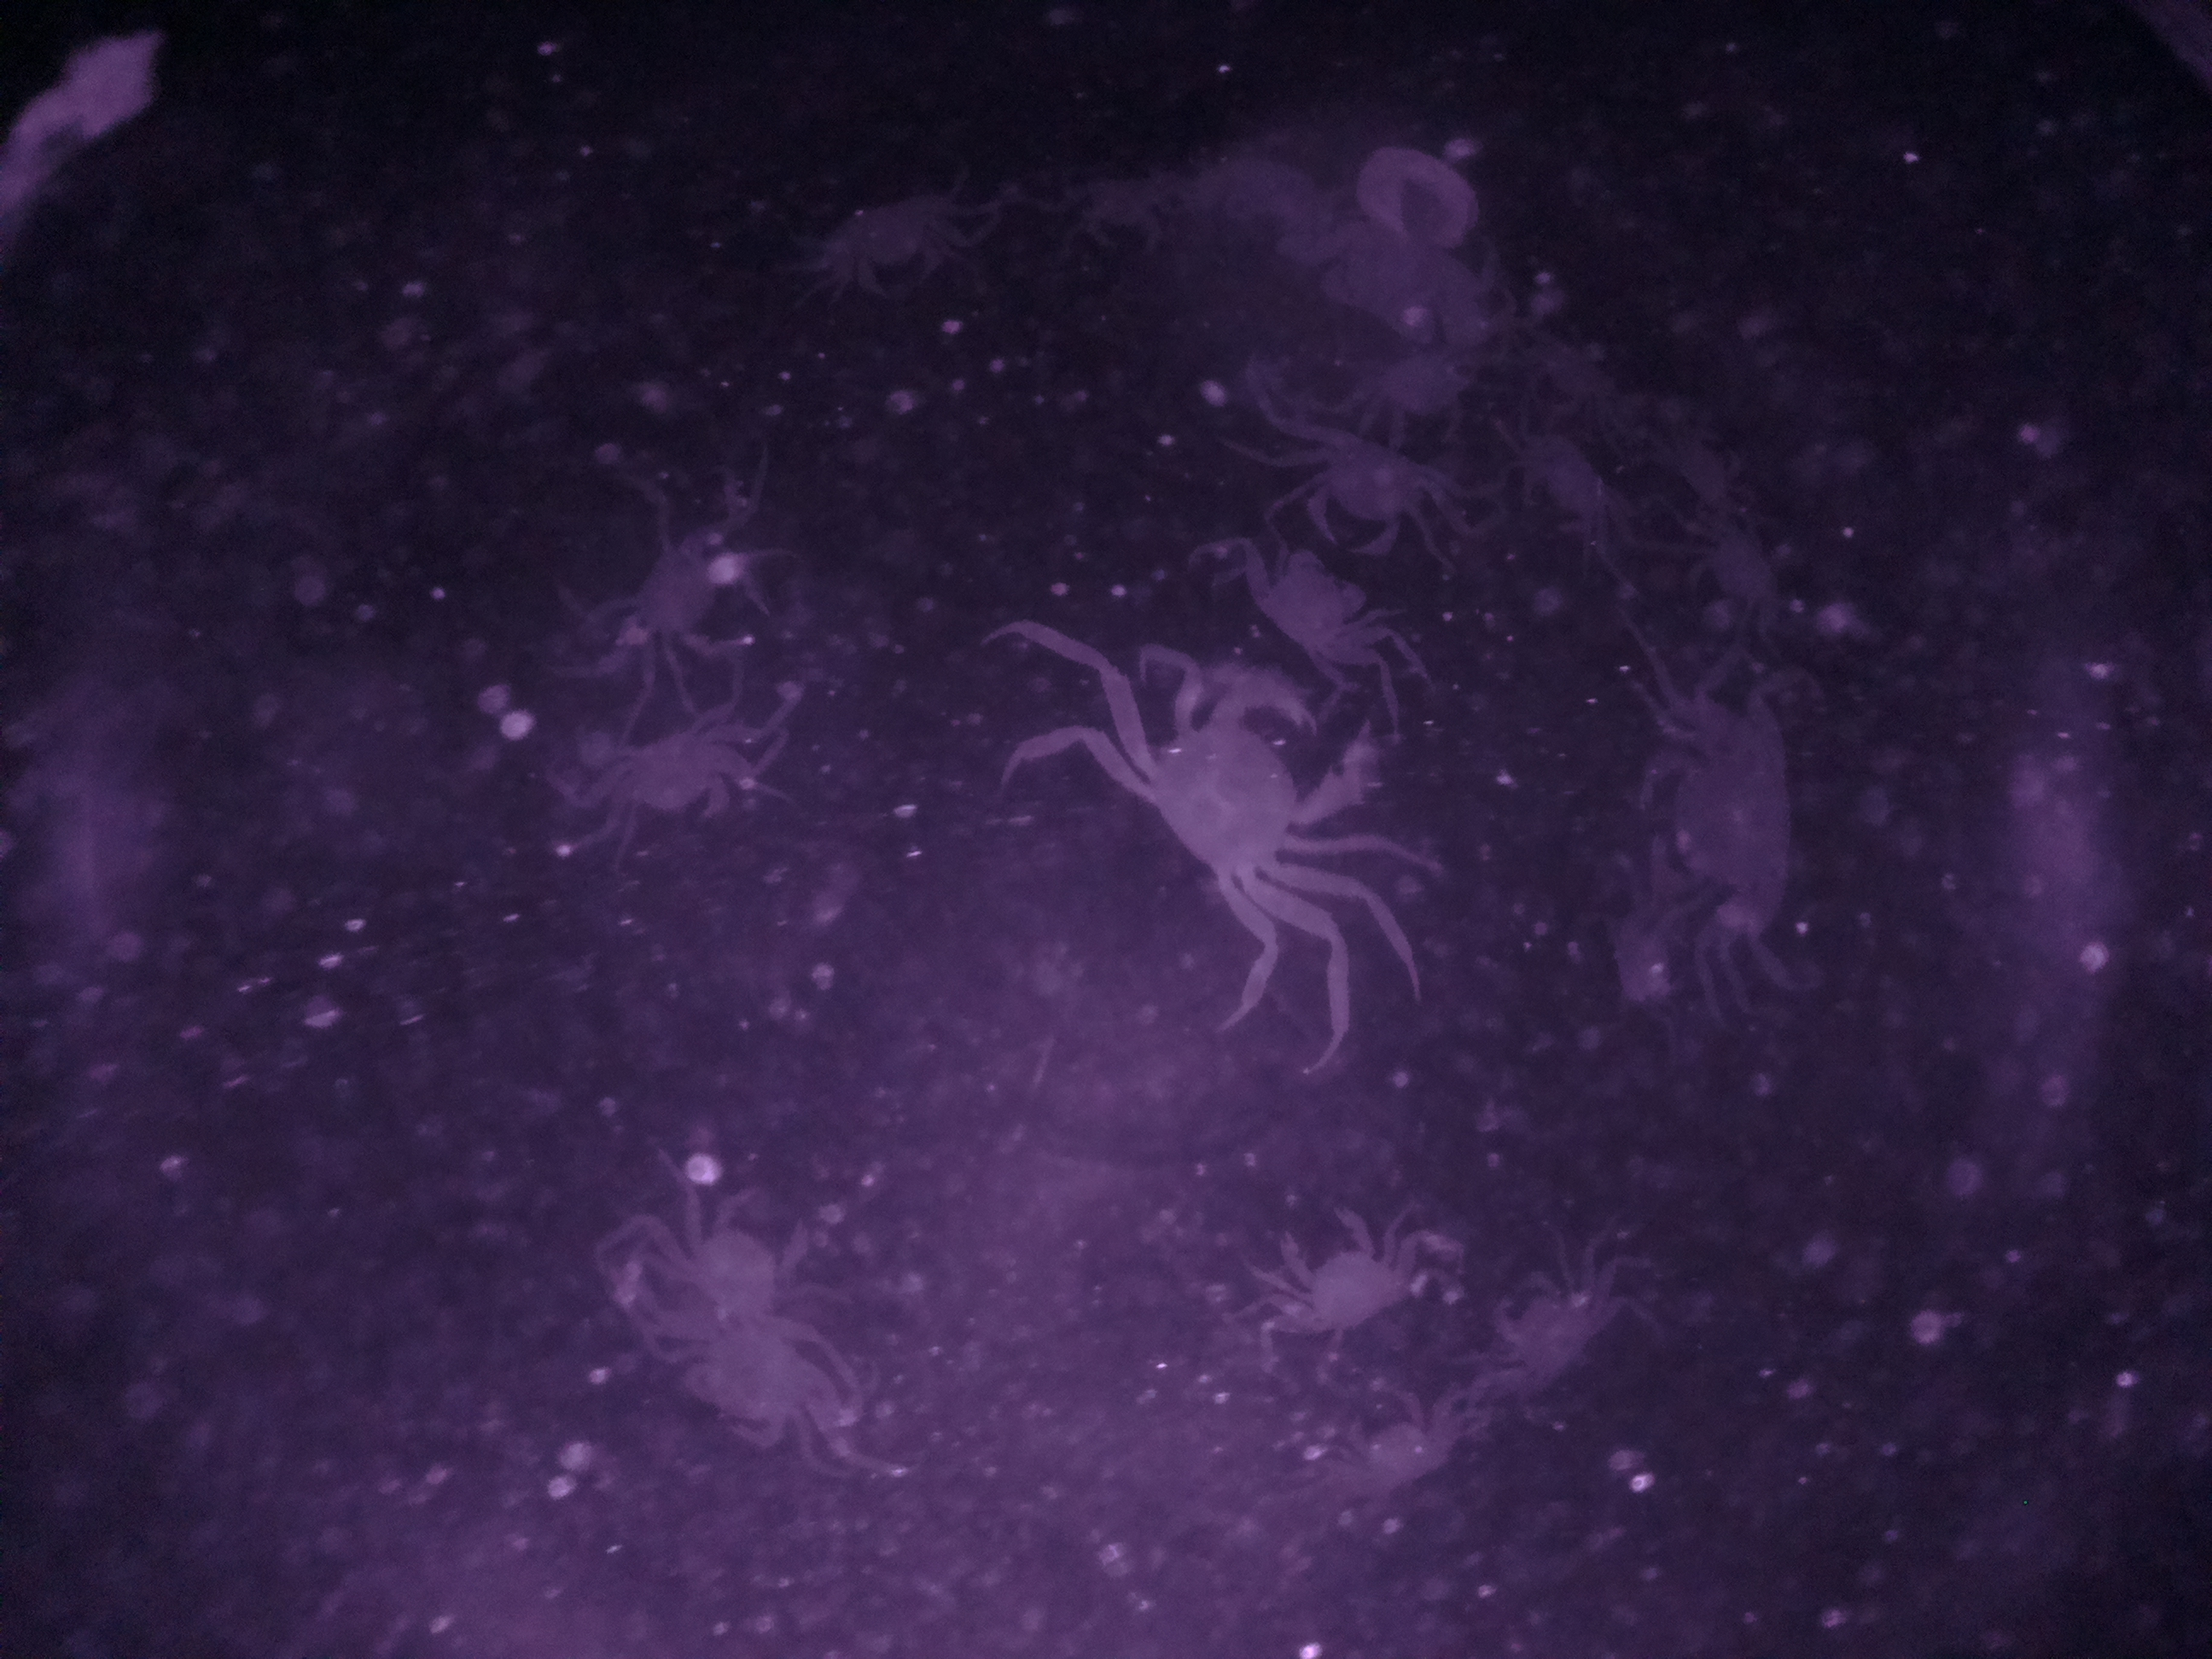Crab: (1096, 671, 1392, 951), (1618, 681, 1846, 960), (563, 511, 773, 678), (1252, 1188, 1437, 1368), (1275, 425, 1480, 577), (582, 709, 763, 843)
